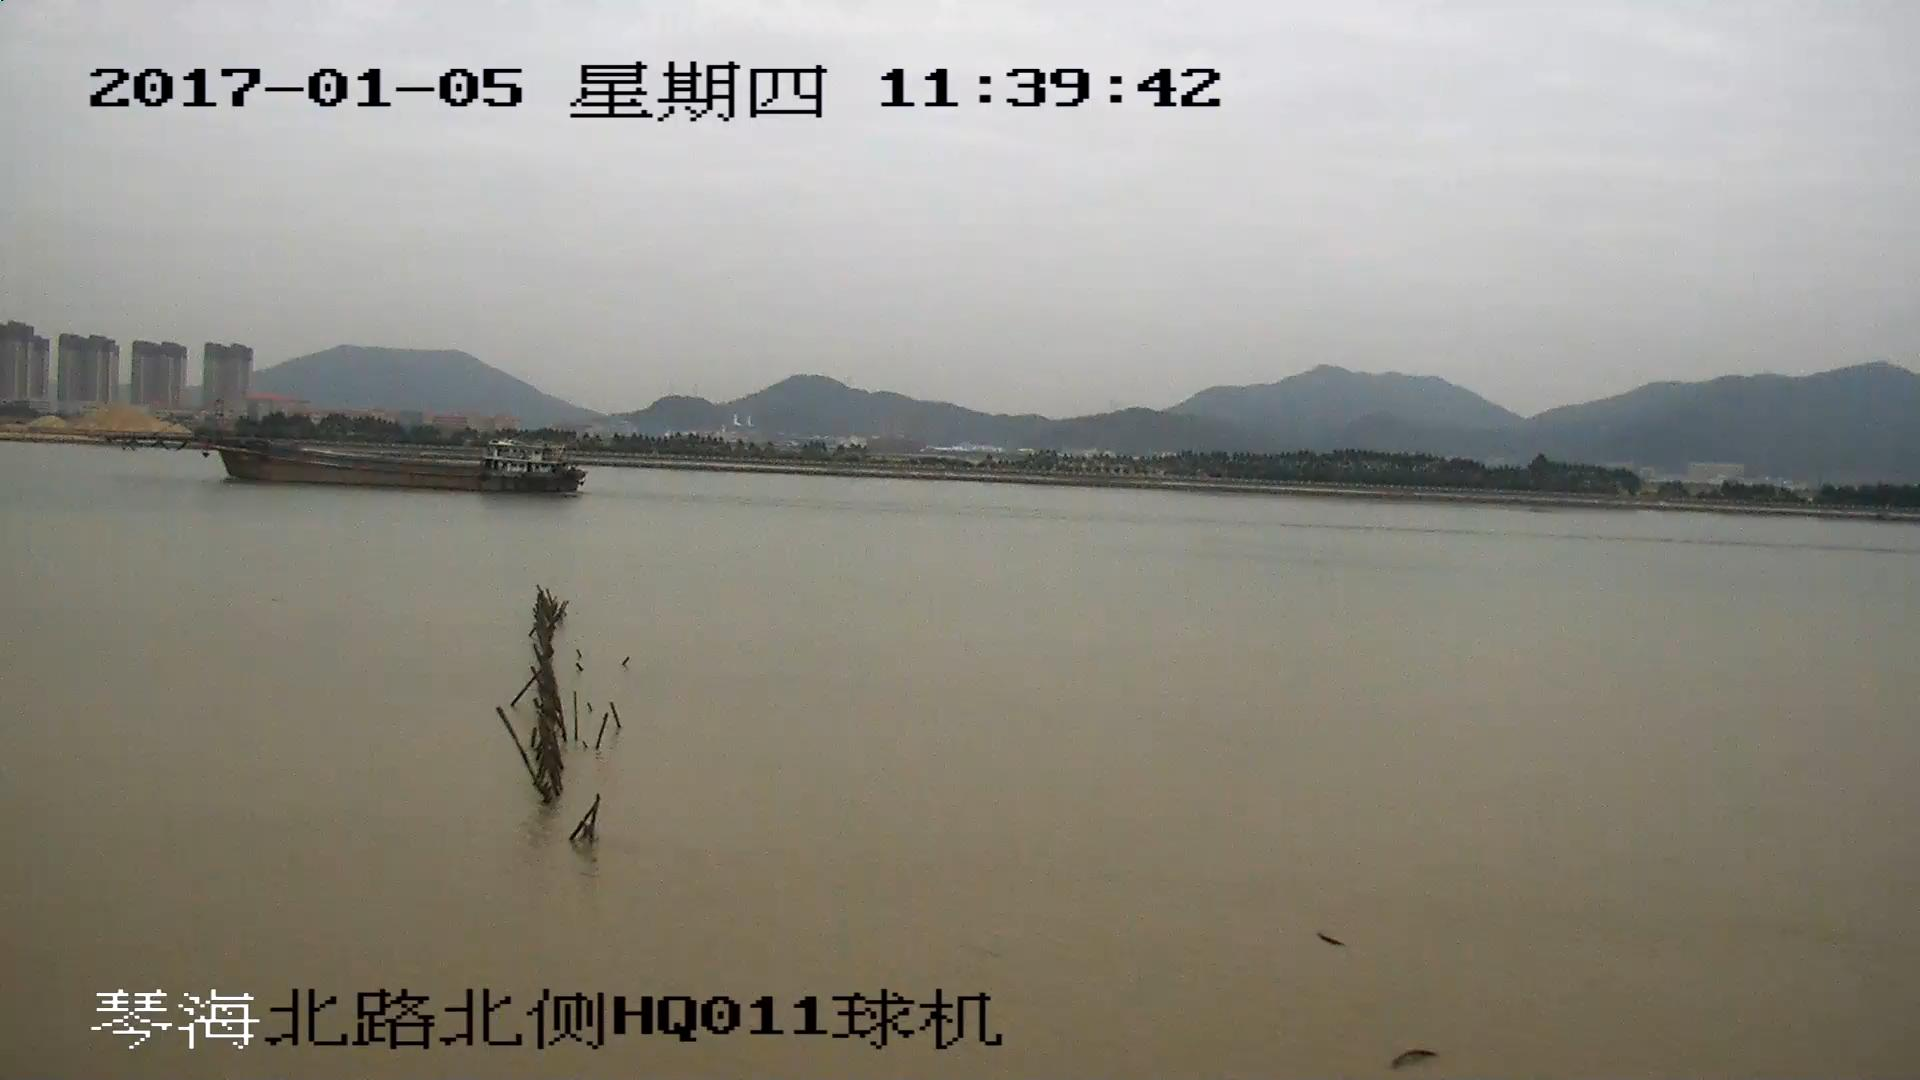bulk cargo carrier: (140, 408, 588, 496)
